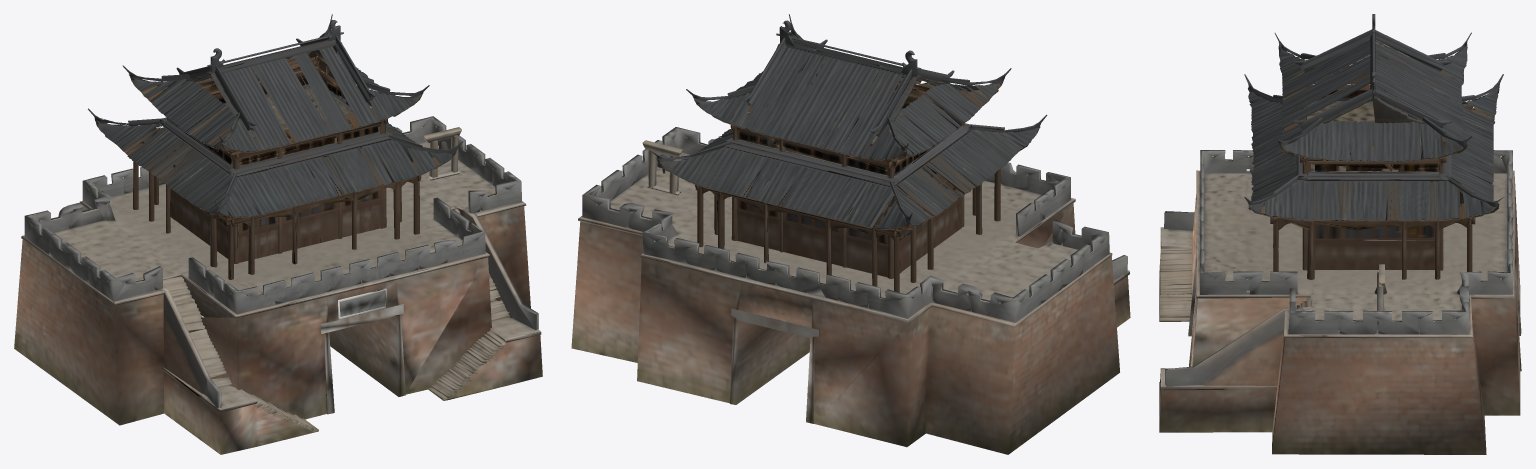
File: dong_qiaolou.glb
The picture shows the model from 3 angles, left to right: view 1: azimuth 30°, elevation 25°; view 2: azimuth 150°, elevation 25°; view 3: azimuth 270°, elevation 25°; orthographic projection. The views are drawn at different scales.
Visible parts, largest first — view 1: geometry_0; view 2: geometry_0; view 3: geometry_0.
Part boxes in pixels (x1=…): geometry_0: x1=14, y1=14, x2=542, y2=454; geometry_0: x1=571, y1=14, x2=1130, y2=454; geometry_0: x1=1159, y1=14, x2=1521, y2=454.
Bounding box in the file's own units: 0.9492 × 0.6699 × 0.7104.
Materials: 1 (1 with a texture image).
